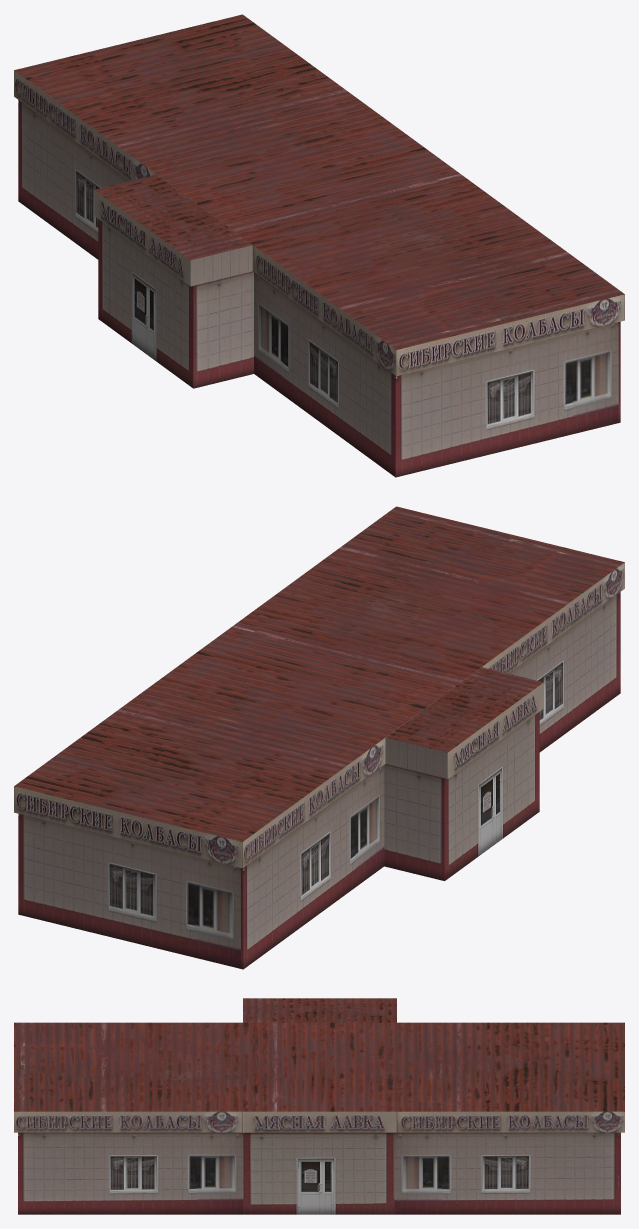
Rendered from r402_omsk_magazin3.FBX.
3 views of the same model, one above another, from view 1: azimuth 30°, elevation 25°; view 2: azimuth 150°, elevation 25°; view 3: azimuth 270°, elevation 25° (orthographic). The views are drawn at different scales.
Visible parts, largest first — view 1: r402_omsk_magazin3; view 2: r402_omsk_magazin3; view 3: r402_omsk_magazin3.
Part boxes in pixels (<box>): r402_omsk_magazin3: <box>14,14,624,477</box>; r402_omsk_magazin3: <box>14,506,624,969</box>; r402_omsk_magazin3: <box>14,998,624,1214</box>.
Bounding box in the file's own units: 884 × 2011 × 376.
